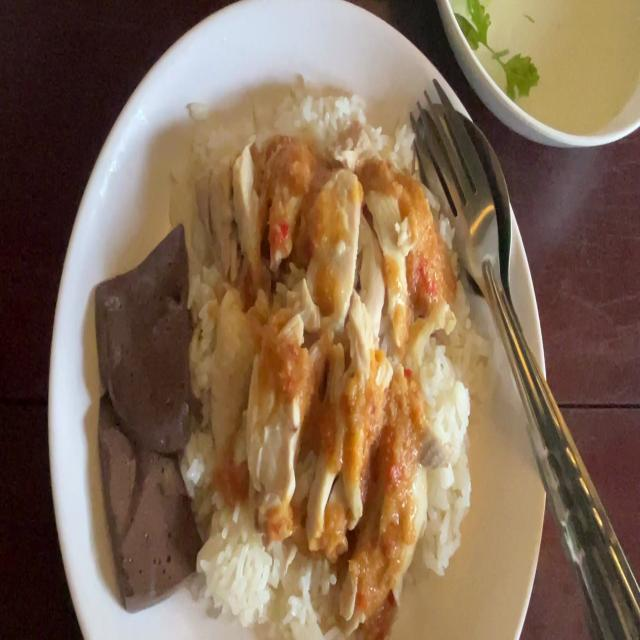boiled_chicken: (210, 153, 440, 537)
boiled_chicken_blood_jelly: (91, 221, 191, 459), (101, 388, 192, 598)
chicken_rice: (89, 89, 479, 640)
